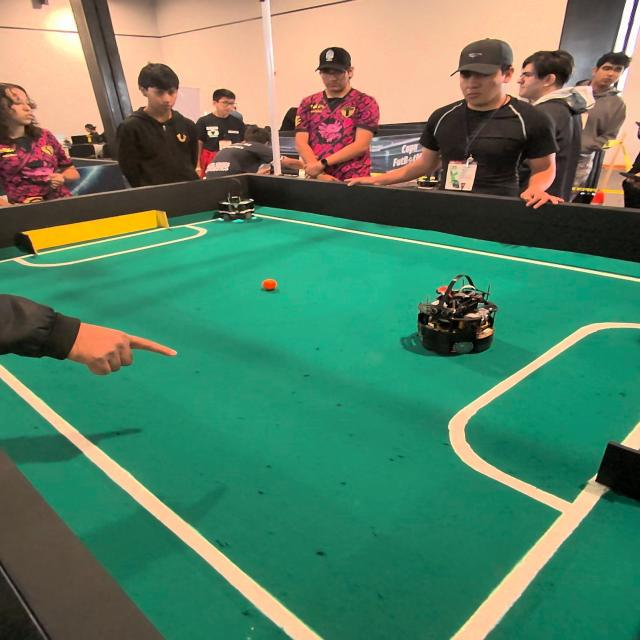Robot: (417, 275, 498, 362), (218, 176, 258, 227)
pelota: (266, 281, 278, 290)
